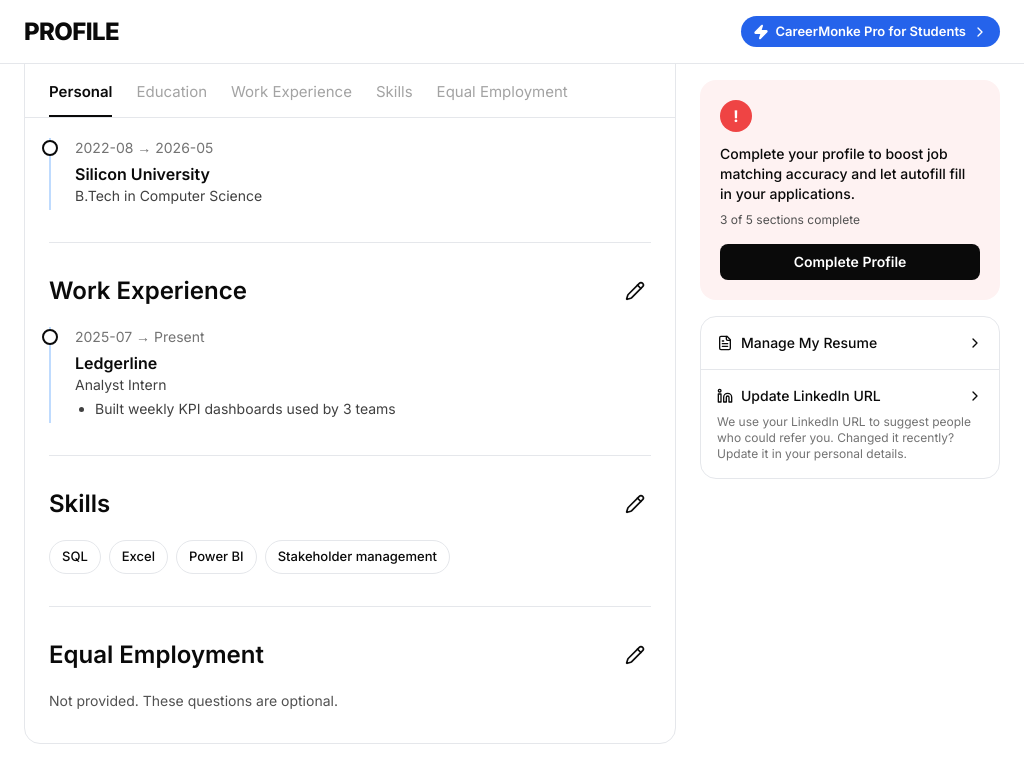
Test case: Profile › equal employment questions are country specific and never prefilled
(page scrolled)
Click the button named "Edit Equal Employment" at (635,654), box [619,638,651,670]
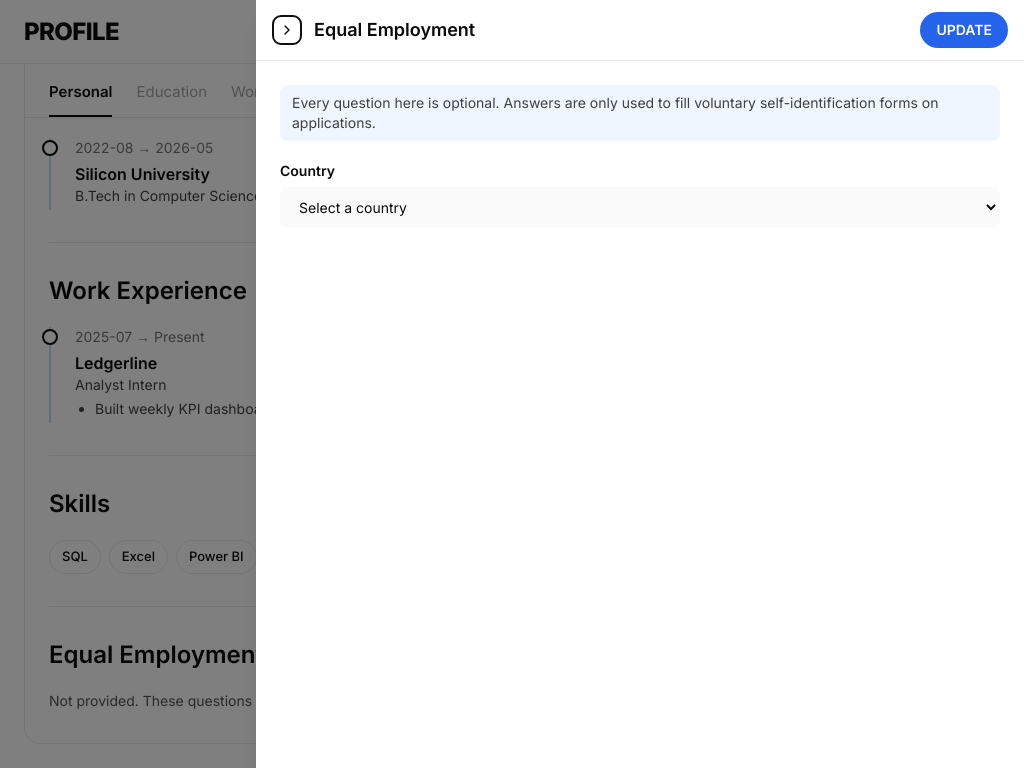
Select "United States" in the dropdown labelled "Country" at (640,208), box [280,187,1000,228]
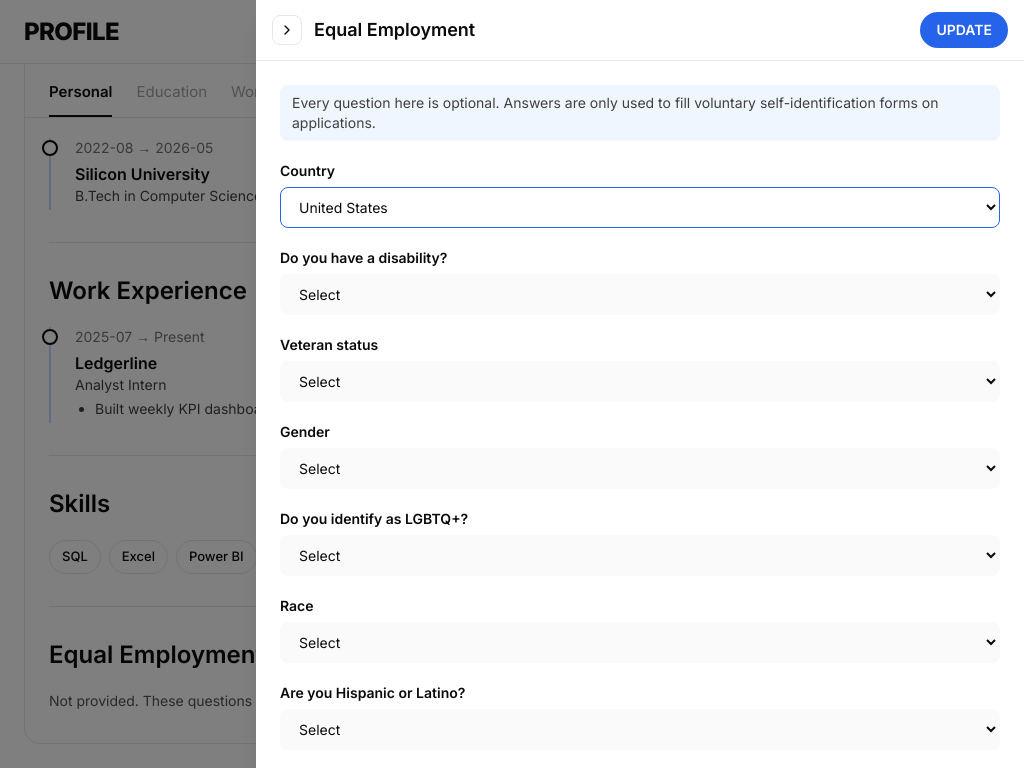
Now the dropdown labelled "Veteran status" shows "Select", box [280,361,1000,402]
Select "Canada" in the dropdown labelled "Country" at (640,208), box [280,187,1000,228]
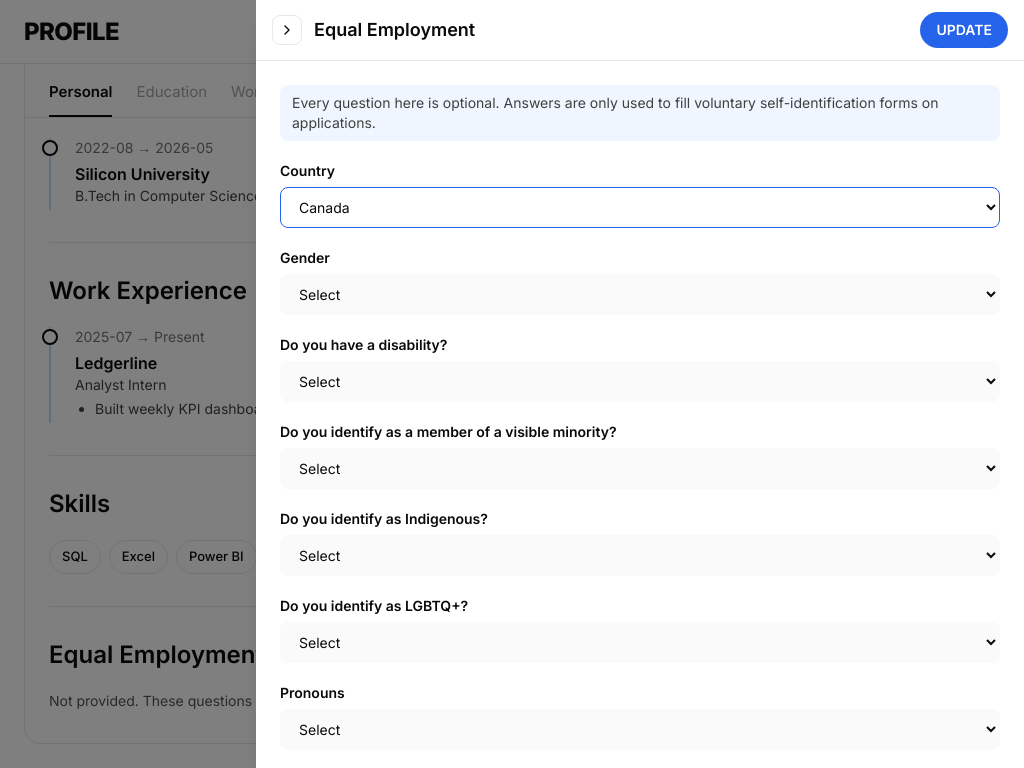
Now the label labelled "Veteran status" is gone
